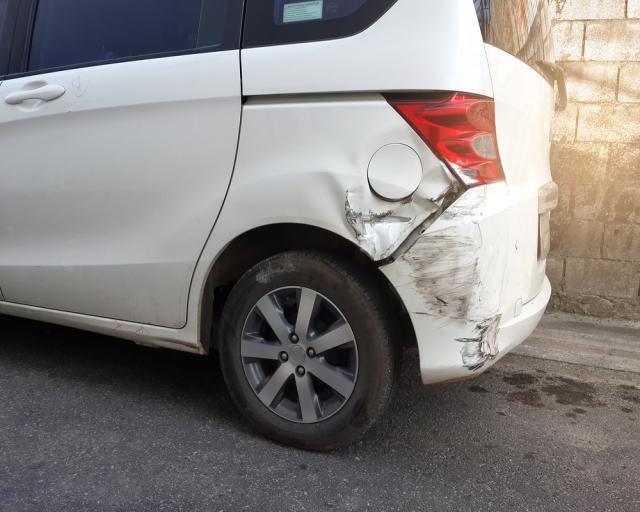dent: (317, 125, 458, 264)
lamp broken: (387, 93, 506, 186)
scratch: (400, 184, 503, 374)
